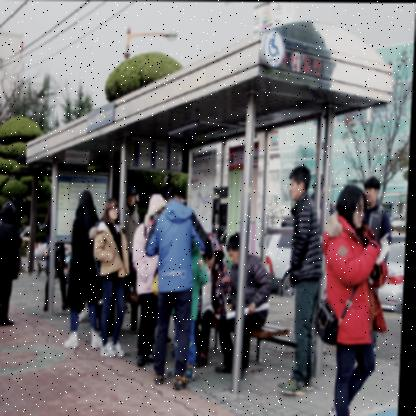person: (267, 166, 335, 394), (322, 178, 383, 414), (150, 184, 201, 382), (218, 230, 272, 375), (92, 189, 138, 358), (61, 189, 107, 353), (135, 198, 172, 364), (194, 228, 230, 372), (0, 199, 36, 329), (359, 166, 394, 264), (123, 184, 146, 241)
